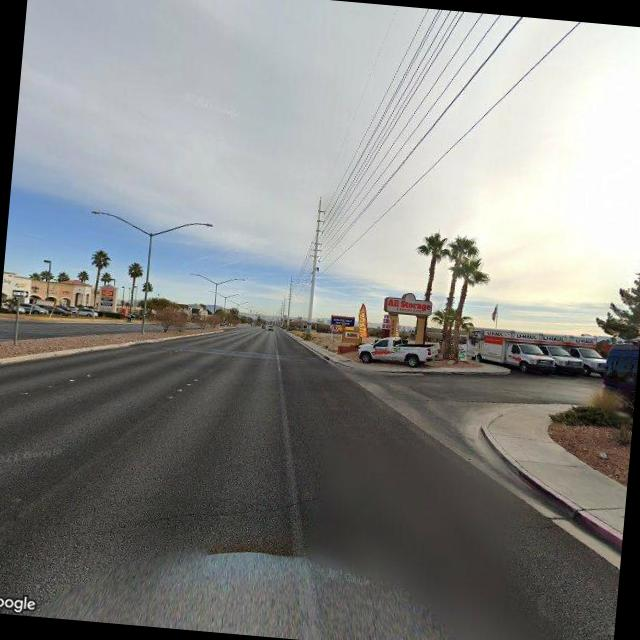crack: (0, 465, 310, 571)
